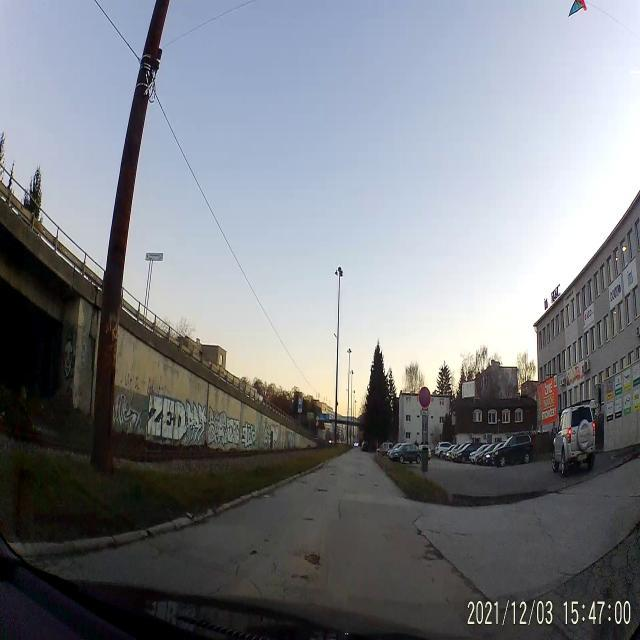Pothole: (418, 524, 443, 566), (304, 546, 320, 572), (289, 572, 317, 582), (313, 486, 335, 496), (300, 512, 318, 524), (249, 544, 260, 559), (298, 478, 312, 488), (371, 482, 381, 490), (329, 471, 338, 478), (359, 471, 367, 478)
